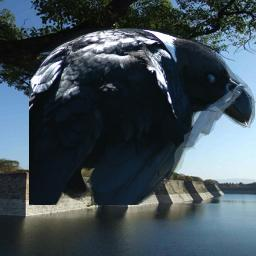Crow: (29, 28, 256, 205)
